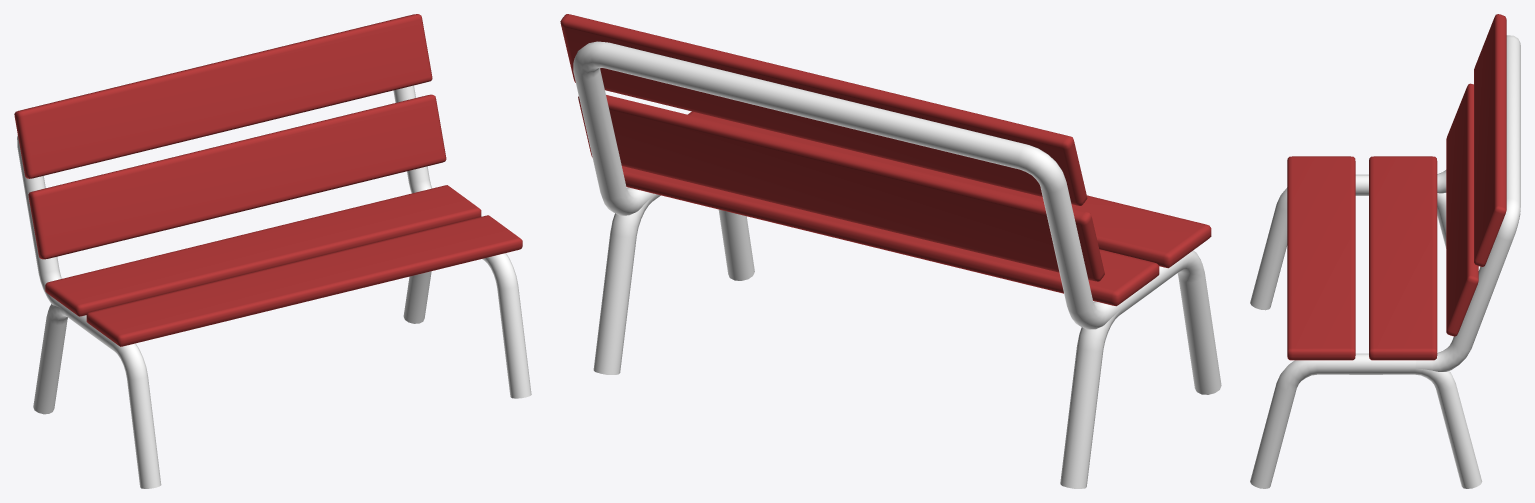
Rendered from chair.gltf.
3 renders of one model, left to right at view 1: azimuth 30°, elevation 25°; view 2: azimuth 150°, elevation 25°; view 3: azimuth 270°, elevation 25°, orthographic. The views are drawn at different scales.
Parts seen in each view (by area): view 1: Plane005, Plane001, bench, Vert001; view 2: Plane005, Vert001, Plane001, bench; view 3: Plane001, Plane005, bench, Vert001.
Part boxes in pixels (x1,y1,x2,y2): Plane005: (14, 14, 446, 259); Plane001: (45, 185, 522, 346); bench: (33, 253, 531, 488); Vert001: (17, 85, 432, 317); Plane005: (560, 14, 1104, 281); Vert001: (573, 41, 1124, 329); Plane001: (622, 111, 1211, 306); bench: (593, 193, 1221, 488); Plane001: (1287, 156, 1437, 360); Plane005: (1446, 14, 1506, 336); bench: (1250, 174, 1482, 488); Vert001: (1410, 35, 1520, 374).
Bounding box in the file's own units: 2.37 × 1.61 × 1.37.
